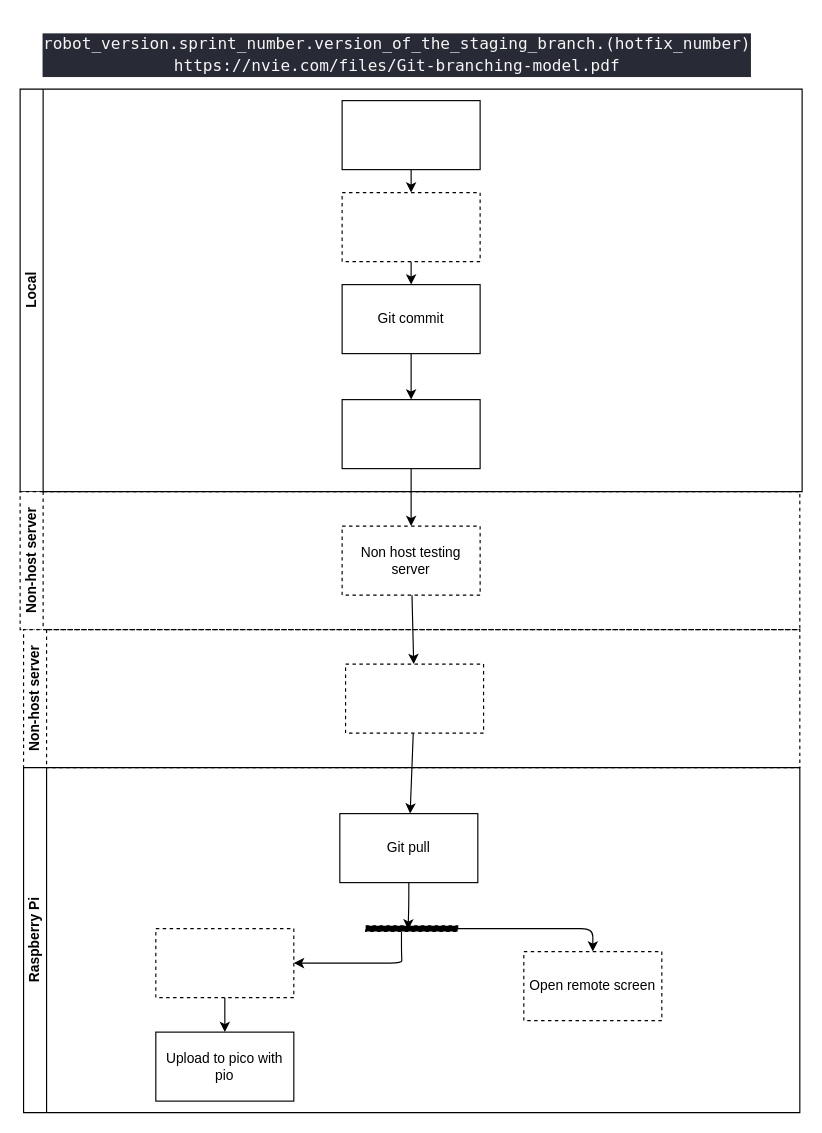
This 822x1133 diagram has some shape labels left out. The shapes that lost their labels are listed below. From the top down, each one's centre as x and y in pixels, then its label:
At point (410, 134): "Create feature".
At point (410, 226): "Unit tests".
At point (410, 433): "Git push".
At point (414, 698): "Raspberry simulation testing".
At point (224, 962): "Unit test on pico".
